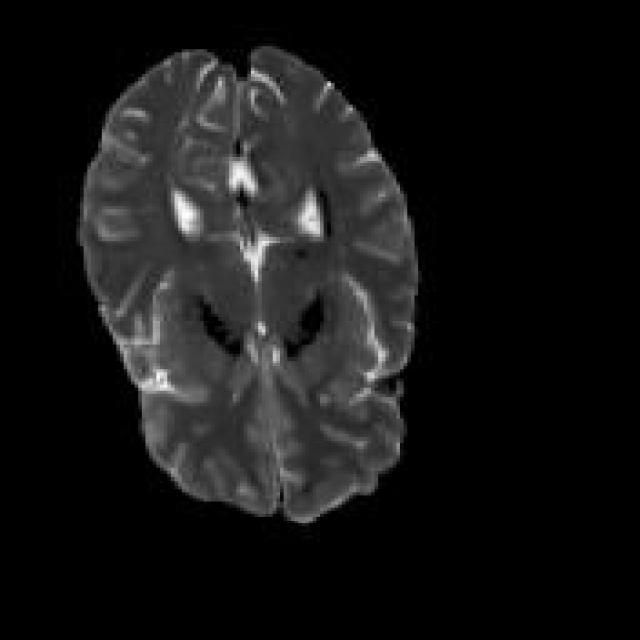CONTROL: (73, 40, 418, 523)
